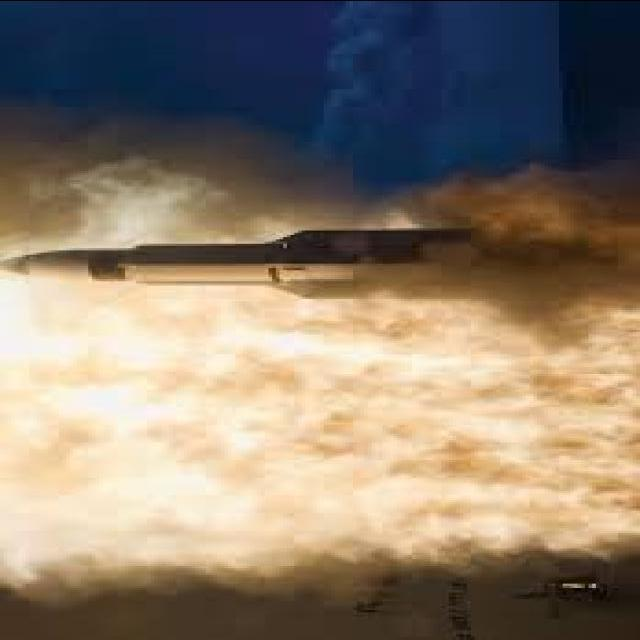Missile: (9, 223, 440, 298)
